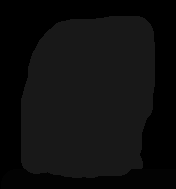fp: (21, 12, 157, 175)
